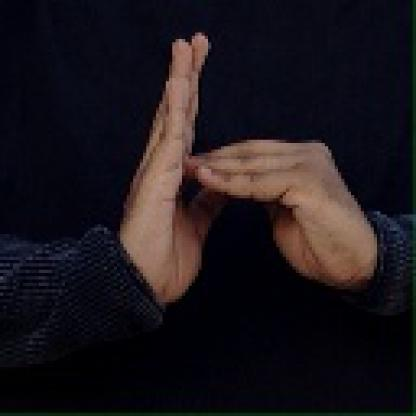Z: (113, 25, 380, 302)
